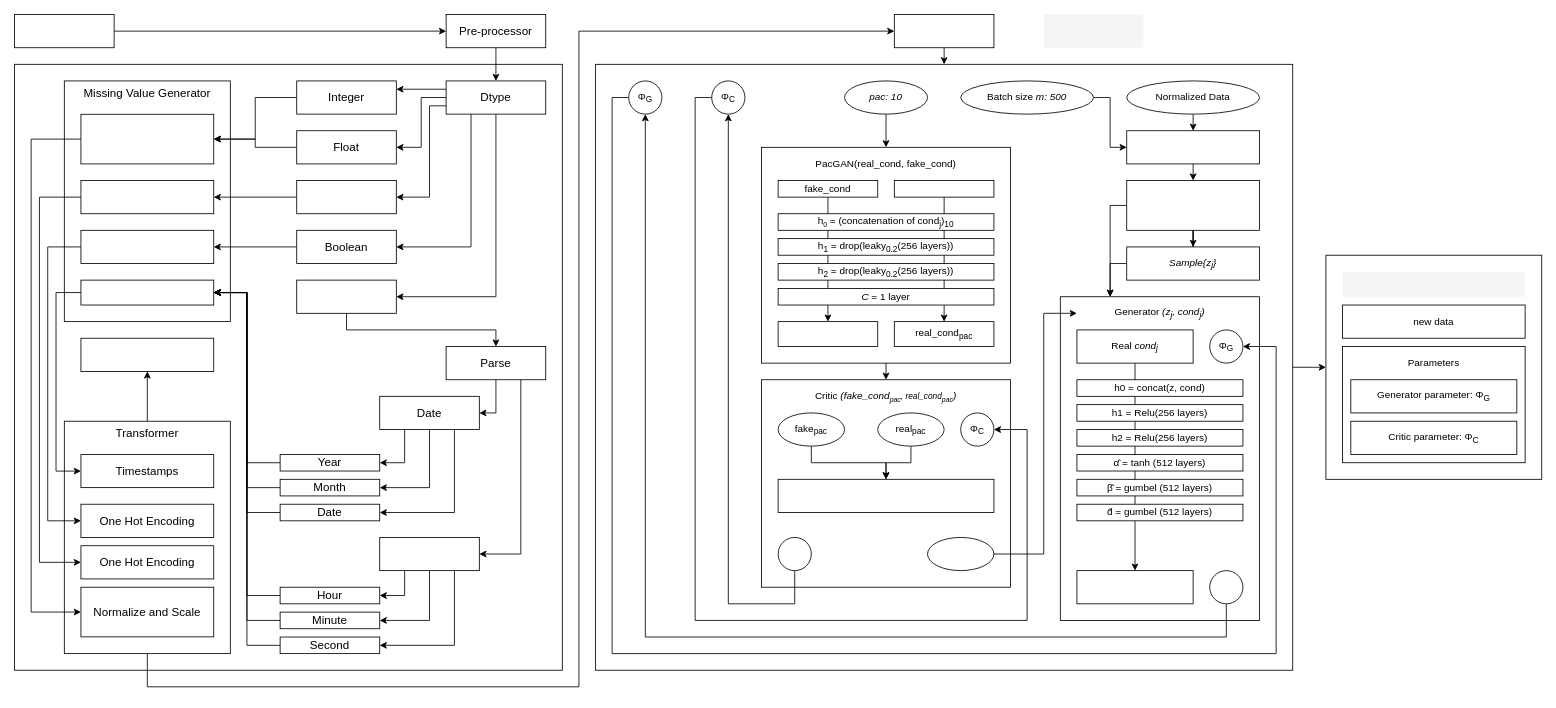
This 1556x708 diagram has some shape labels left out. The shapes that lost their labels are listed below. From the top down, each one's centre as x and y in pixels, then its label:
At (x=64, y=31): "Data".
At (x=943, y=31): "GAN".
At (x=1093, y=30): "epochs: 300".
At (x=147, y=138): "Mean Median Mode".
At (x=1193, y=147): "Create m batches".
At (x=147, y=197): "Mode Imputation 'Unkown/Missing'".
At (x=346, y=197): "Object".
At (x=943, y=188): "real_cond".
At (x=1193, y=205): "conditional vectors cond j".
At (x=147, y=246): "Mode Imputation 'False/True'".
At (x=147, y=292): "Interpolation".
At (x=346, y=296): "Date and Time".
At (x=1433, y=283): "after epochs: 300".
At (x=147, y=354): "Save as Dictionary".
At (x=827, y=334): "fake_cond pac".
At (x=885, y=495): "F(f p , r p )".
At (x=429, y=554): "Time".
At (x=794, y=554): "Φ C *".
At (x=960, y=554): "penalty".
At (x=1134, y=587): "fake_cond (Data)".
At (x=1226, y=587): "Φ G *".
